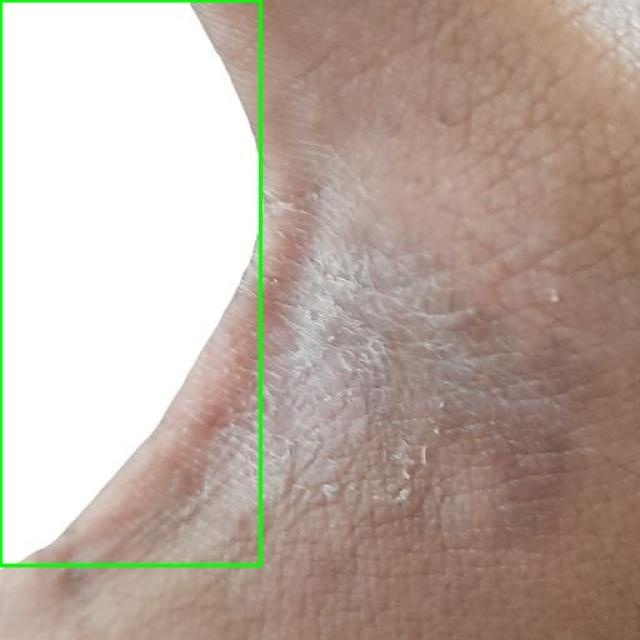Scabies: (0, 0, 260, 565)
